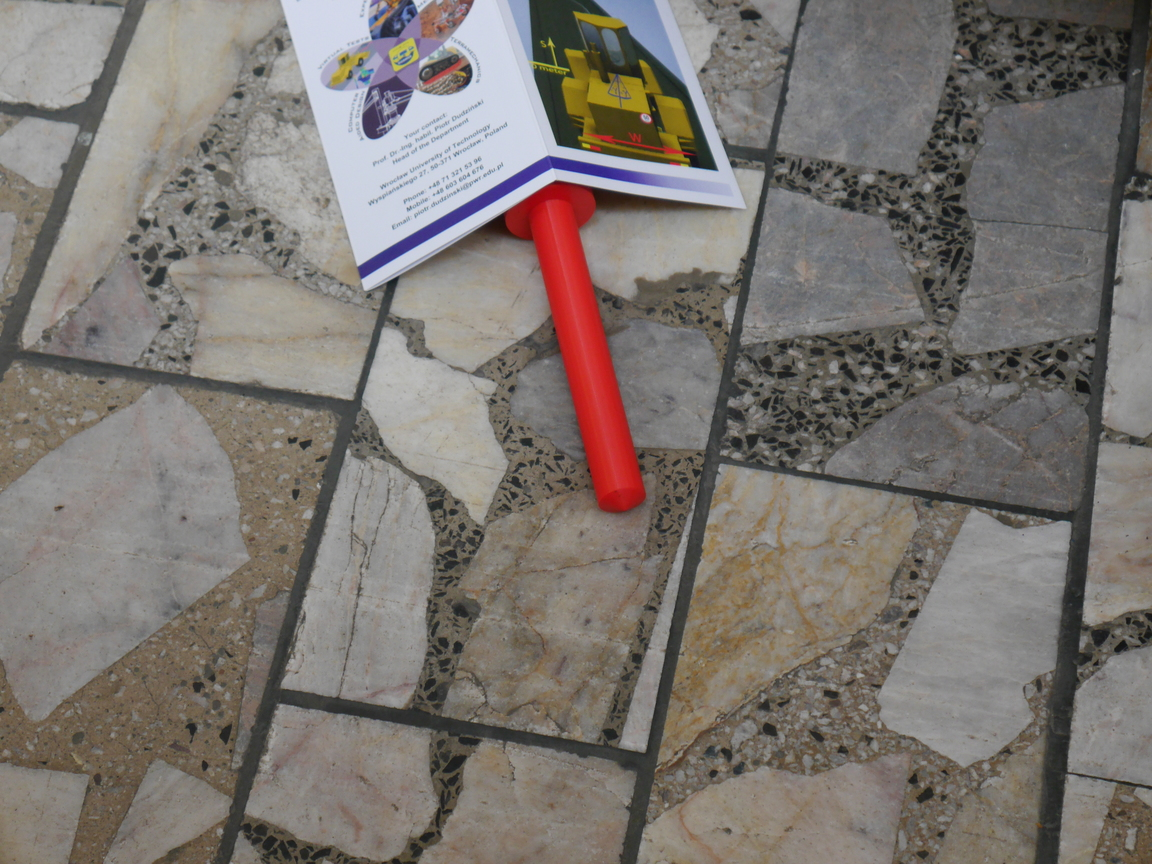cargo_g: (502, 179, 649, 514)
